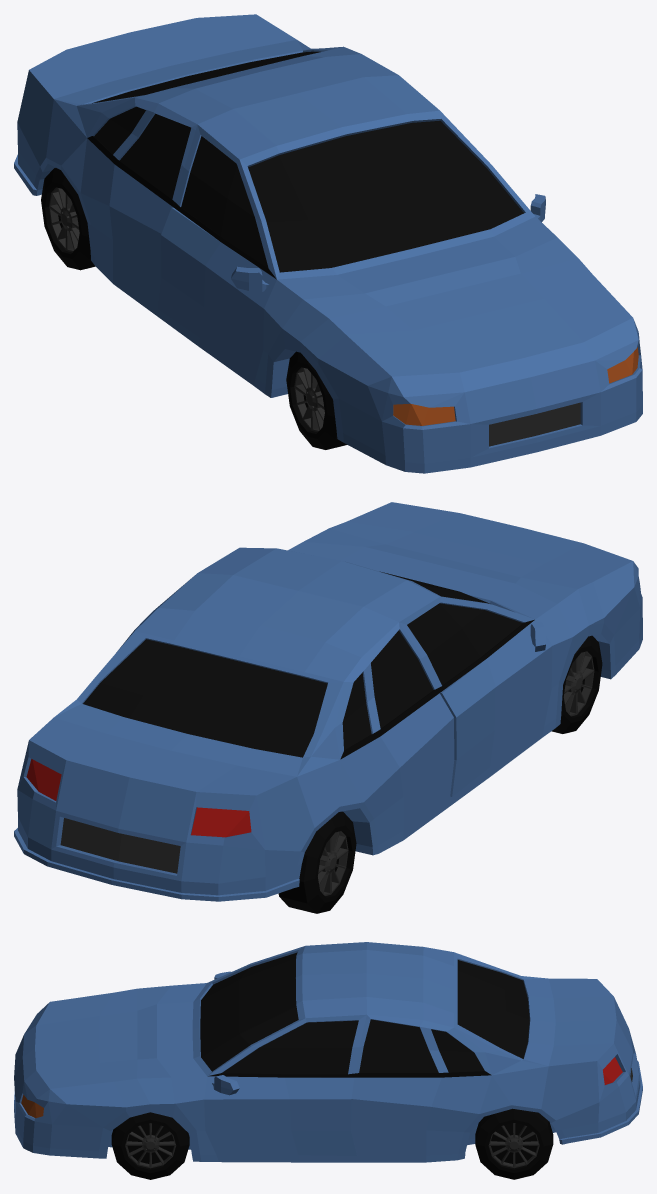
Rendered from sedan.glb.
3 renders of one model, top to bottom at view 1: azimuth 30°, elevation 25°; view 2: azimuth 150°, elevation 25°; view 3: azimuth 270°, elevation 25°, orthographic. The views are drawn at different scales.
Parts seen in each view (by area): view 1: NormalCar1_Cube.012, NormalCar1_BackWheels_Cube.011, NormalCar1_FrontRightWheel_Cube.008; view 2: NormalCar1_Cube.012, NormalCar1_BackWheels_Cube.011, NormalCar1_FrontRightWheel_Cube.008; view 3: NormalCar1_Cube.012, NormalCar1_BackWheels_Cube.011, NormalCar1_FrontLeftWheel_Cube.007.
Boxes of the visible parts, <box> form: NormalCar1_Cube.012: <box>14,14,642,473</box>; NormalCar1_BackWheels_Cube.011: <box>41,168,95,270</box>; NormalCar1_FrontRightWheel_Cube.008: <box>286,351,346,449</box>; NormalCar1_Cube.012: <box>14,502,642,901</box>; NormalCar1_BackWheels_Cube.011: <box>278,811,356,913</box>; NormalCar1_FrontRightWheel_Cube.008: <box>551,635,602,733</box>; NormalCar1_Cube.012: <box>14,942,642,1162</box>; NormalCar1_BackWheels_Cube.011: <box>475,1108,553,1179</box>; NormalCar1_FrontLeftWheel_Cube.007: <box>111,1112,189,1179</box>.
Bounding box in the file's own units: 1.81 × 1.18 × 4.22.
